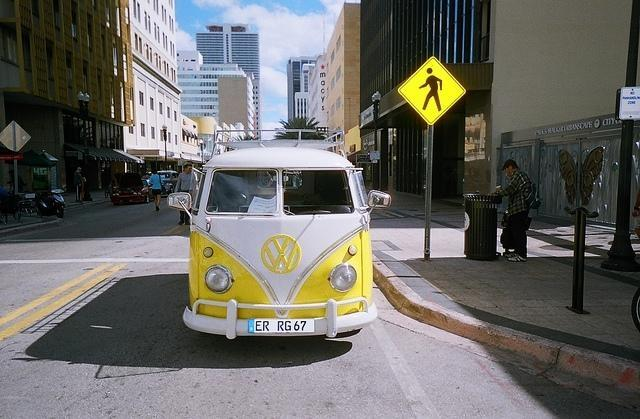car: (110, 173, 154, 207), (158, 170, 180, 194)
motorcycle: (36, 186, 66, 216)
truck: (160, 147, 392, 342)
